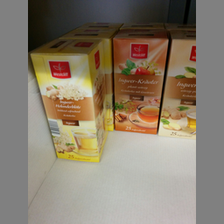tea: (30, 39, 106, 163), (112, 31, 170, 134)
